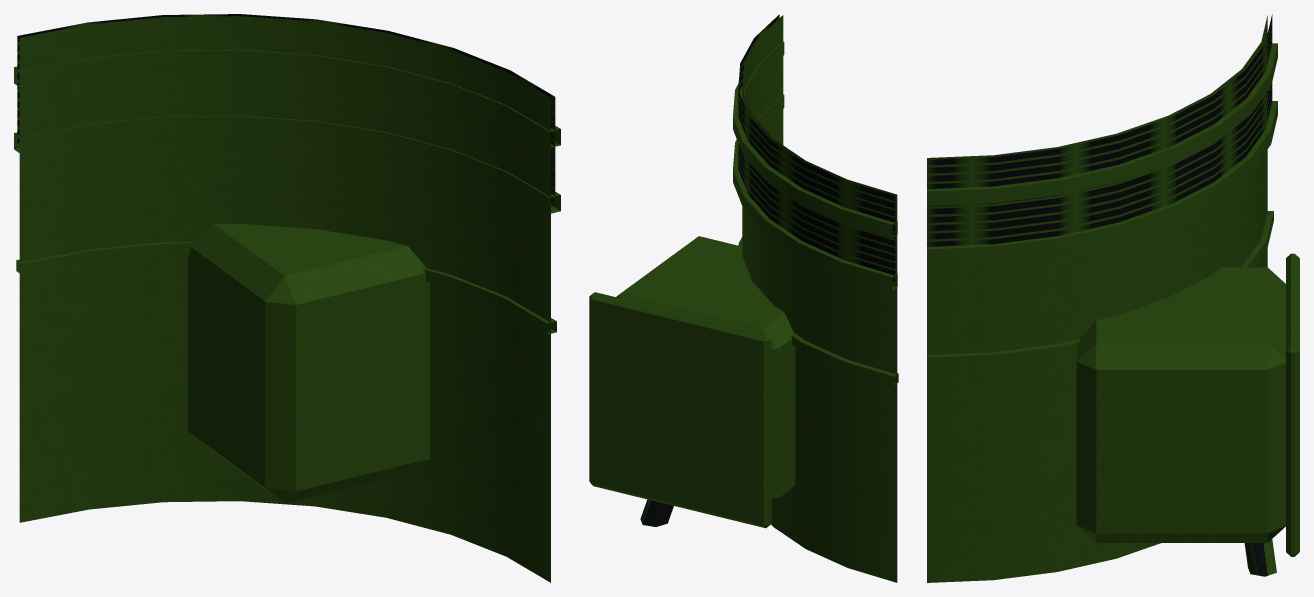
Rendered from cell_26.obj.
3 renders of one model, left to right at view 1: azimuth 30°, elevation 25°; view 2: azimuth 150°, elevation 25°; view 3: azimuth 270°, elevation 25°, orthographic. The views are drawn at different scales.
Parts seen in each view (by area): view 1: cell_26; view 2: cell_26; view 3: cell_26.
Part boxes in pixels (x1=…): cell_26: x1=14, y1=14, x2=560, y2=582; cell_26: x1=589, y1=14, x2=898, y2=582; cell_26: x1=927, y1=14, x2=1299, y2=582.
Bounding box in the file's own units: 0.7969 × 1 × 0.795.
